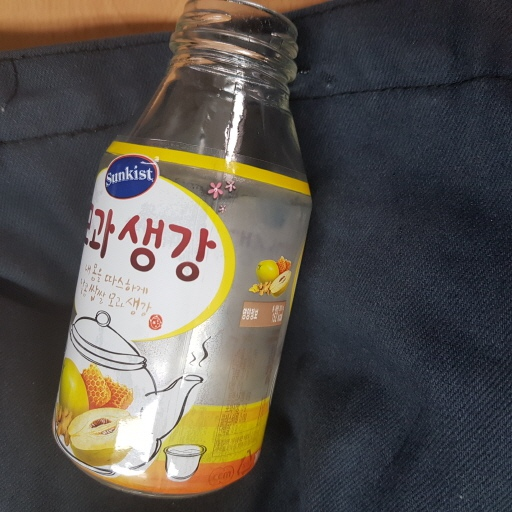Glass_4: (48, 2, 312, 500)
